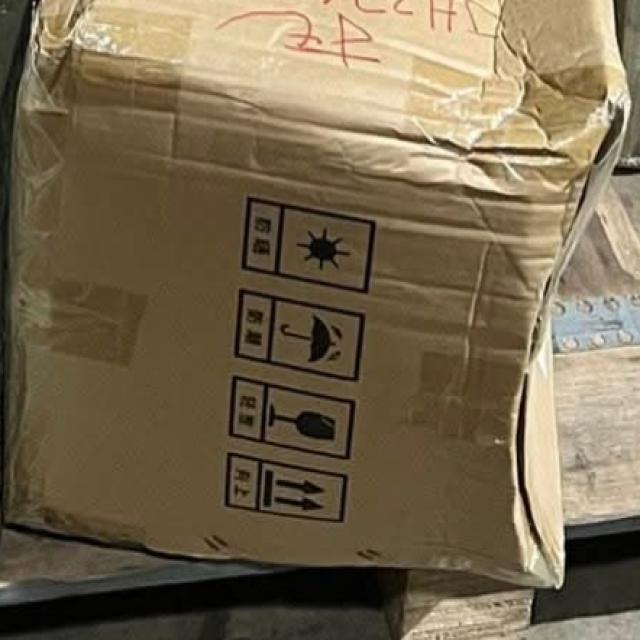carton_box: (2, 0, 635, 609)
fragile_label: (230, 370, 362, 464)
keep_dry_label: (234, 281, 368, 388)
package_damage: (493, 75, 640, 609), (11, 0, 87, 114), (136, 527, 246, 575)
this_side_up_label: (217, 440, 359, 527)
